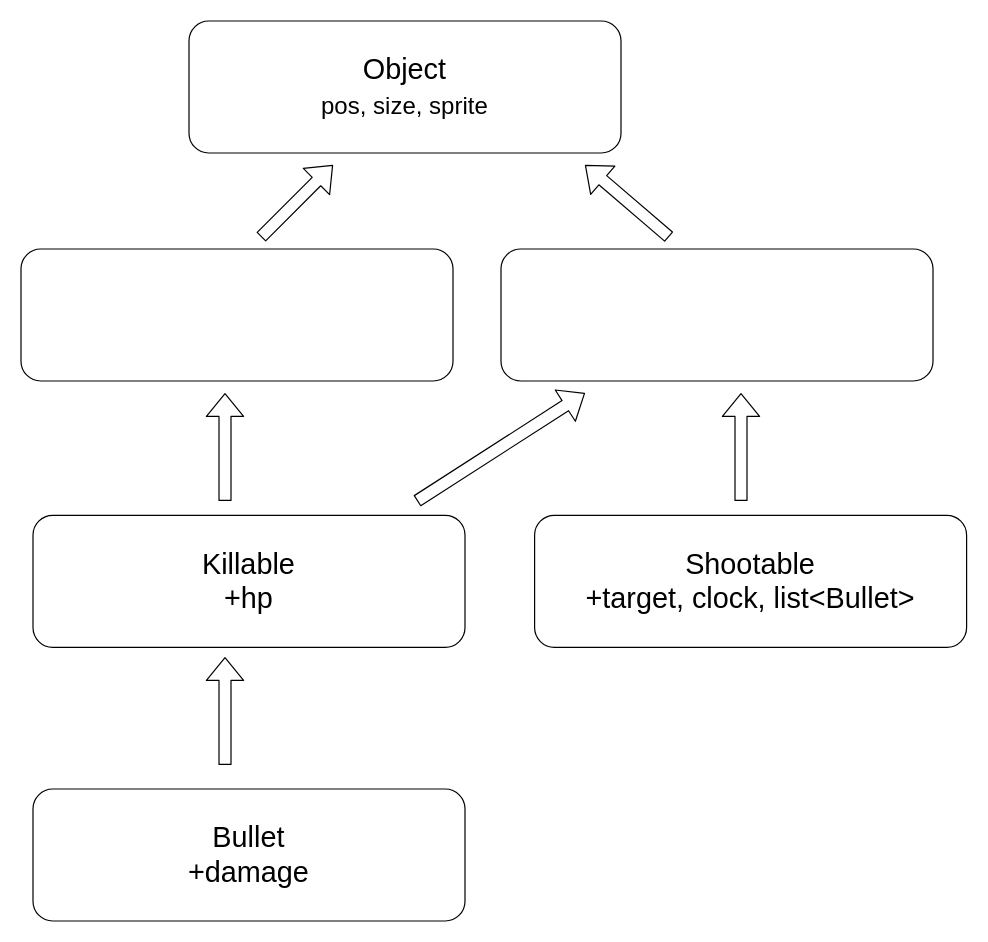
Image size: 988x942. Some labels were removed from this diagram. Here are the shapes that lost their labels. From the top down, the box of each, then its label:
(20, 248, 453, 381): Movable +v, m, friction
(500, 248, 933, 381): Rotatable +rotation
